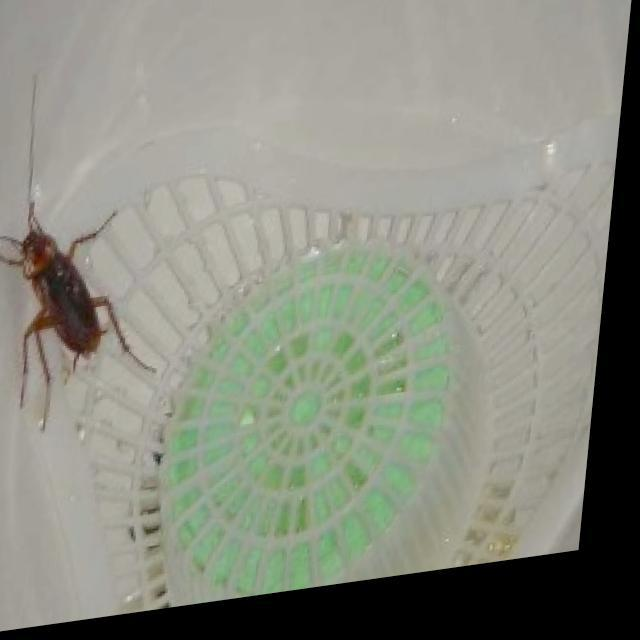cockroach: (2, 71, 159, 434)
